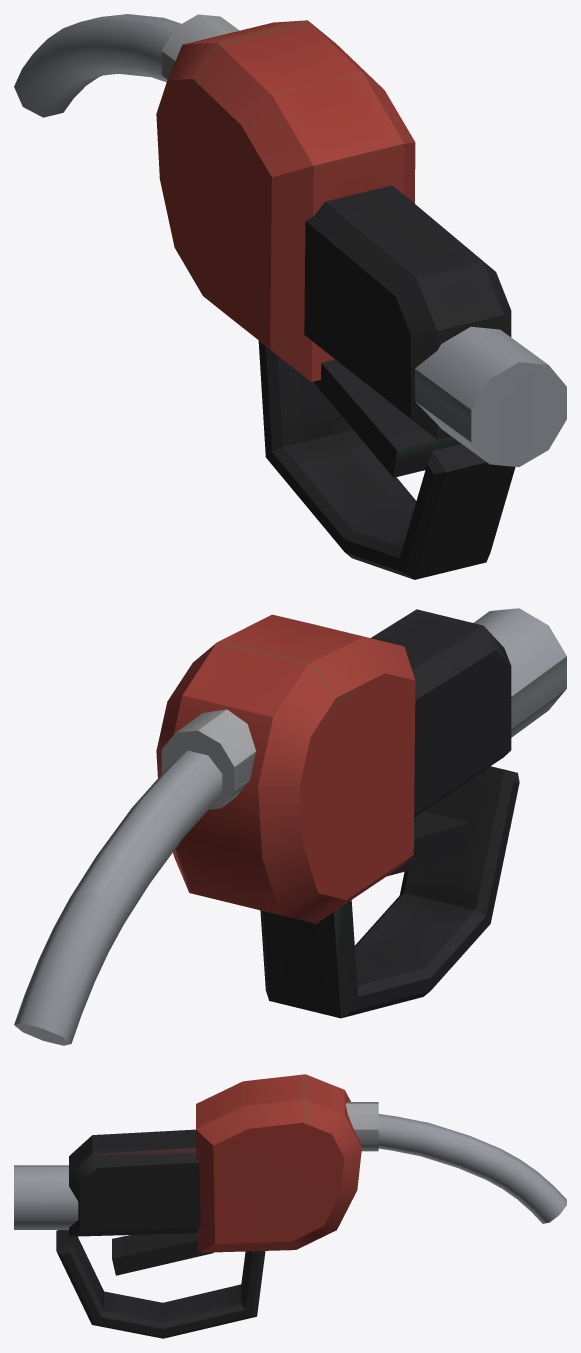
The model's file is held_gasoline.obj.
3 renders of one model, top to bottom at view 1: azimuth 30°, elevation 25°; view 2: azimuth 150°, elevation 25°; view 3: azimuth 270°, elevation 25°, orthographic. The views are drawn at different scales.
Visible parts, largest first — view 1: item_gasoline_cover, item_gasoline_guard, item_gasoline_handle, item_gasoline_steel, item_gasoline_collar; view 2: item_gasoline_cover, item_gasoline_guard, item_gasoline_steel, item_gasoline_handle, item_gasoline_collar; view 3: item_gasoline_cover, item_gasoline_handle, item_gasoline_guard, item_gasoline_steel, item_gasoline_collar.
Boxes of the visible parts, left/top/right/bottom form: item_gasoline_cover: left=156, top=20, right=415, bottom=381; item_gasoline_guard: left=258, top=340, right=515, bottom=579; item_gasoline_handle: left=304, top=185, right=511, bottom=439; item_gasoline_steel: left=14, top=14, right=566, bottom=467; item_gasoline_collar: left=161, top=14, right=239, bottom=81; item_gasoline_cover: left=156, top=614, right=415, bottom=923; item_gasoline_guard: left=260, top=766, right=519, bottom=1018; item_gasoline_steel: left=14, top=608, right=566, bottom=1045; item_gasoline_handle: left=371, top=609, right=511, bottom=817; item_gasoline_collar: left=161, top=709, right=256, bottom=809; item_gasoline_cover: left=196, top=1074, right=361, bottom=1252; item_gasoline_handle: left=69, top=1129, right=200, bottom=1236; item_gasoline_guard: left=56, top=1230, right=265, bottom=1338; item_gasoline_steel: left=14, top=1114, right=566, bottom=1229; item_gasoline_collar: left=345, top=1102, right=378, bottom=1151.
Bounding box in the file's own units: 0.075 × 0.2129 × 0.4409.
